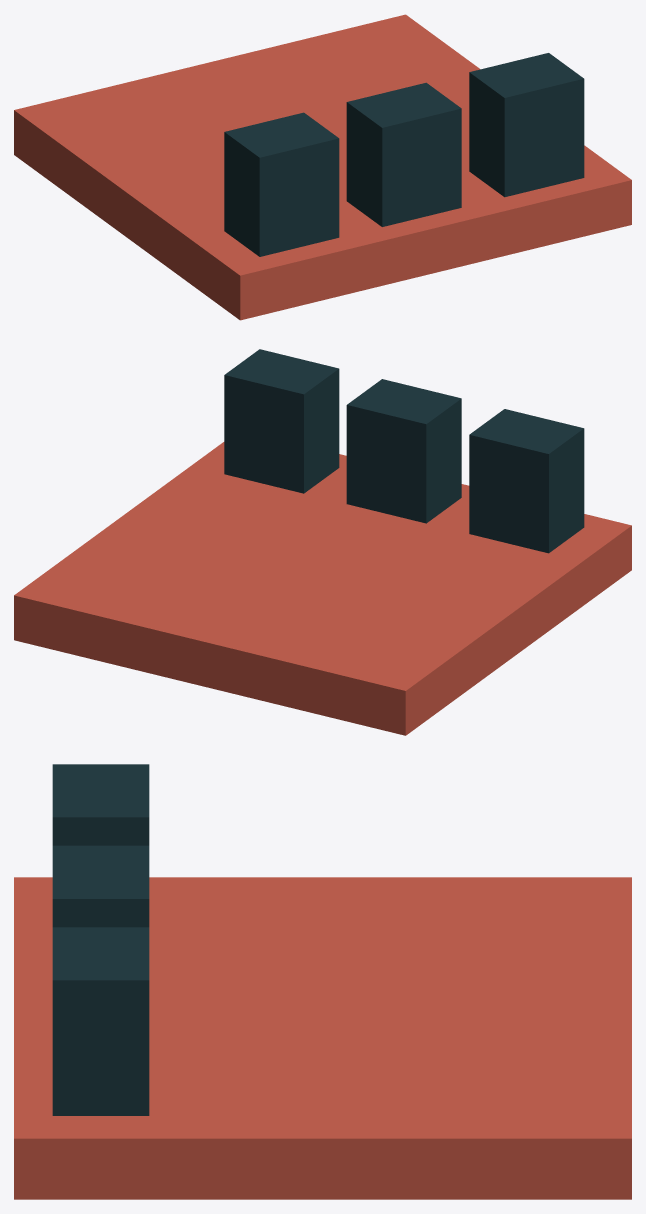
Rendered from drop_carriage.glb.
3 views of the same model, one above another, from view 1: azimuth 30°, elevation 25°; view 2: azimuth 150°, elevation 25°; view 3: azimuth 270°, elevation 25° (orthographic). The views are drawn at different scales.
Parts seen in each view (by area): view 1: drop_carriage; view 2: drop_carriage; view 3: drop_carriage.
Part boxes in pixels (box(x1,y1,x2,y2)): drop_carriage: box(14, 14, 631, 320); drop_carriage: box(14, 349, 631, 735); drop_carriage: box(14, 764, 631, 1199).
Bounding box in the file's own units: 3.2 × 1.12 × 3.2.
